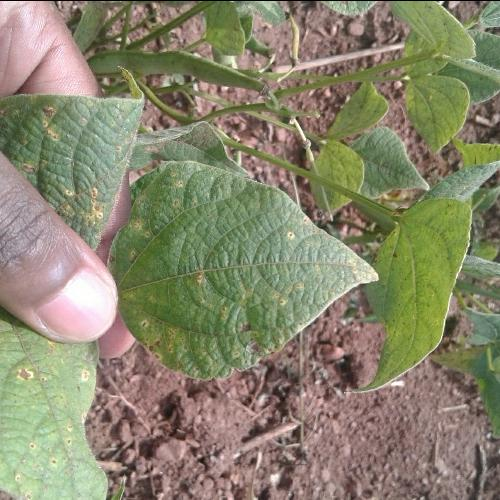hawar: (224, 318, 272, 370), (136, 316, 186, 364), (9, 362, 39, 386)
mozaik: (143, 196, 292, 300), (0, 399, 85, 500)
